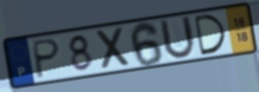6: (128, 19, 165, 68)
8: (67, 33, 95, 73)
D: (192, 13, 229, 57)
P: (32, 37, 63, 81)
U: (158, 15, 198, 62)
X: (94, 25, 133, 73)
